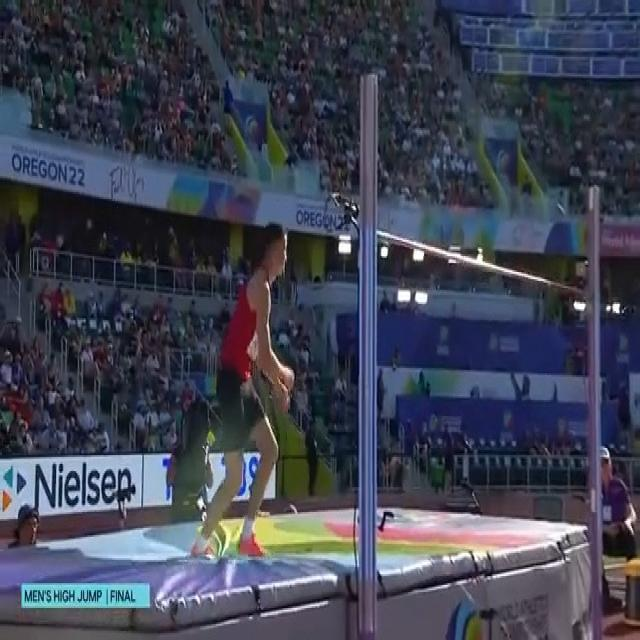land: (190, 218, 296, 565)
